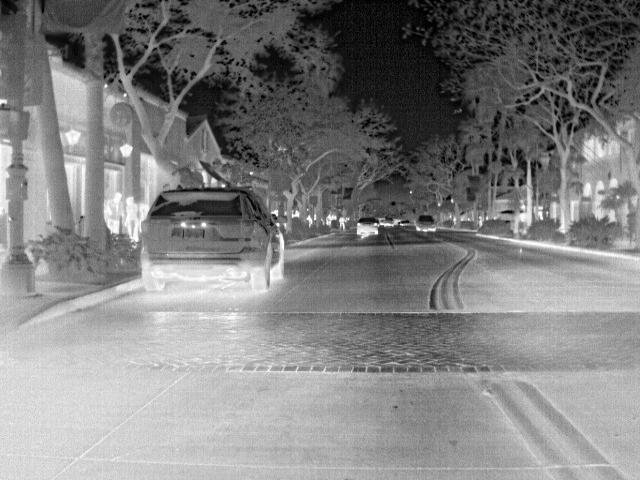car: (140, 184, 289, 292), (355, 216, 382, 236), (414, 213, 438, 232)
person: (122, 194, 142, 245), (105, 190, 124, 234), (337, 214, 350, 230), (325, 211, 334, 230)
